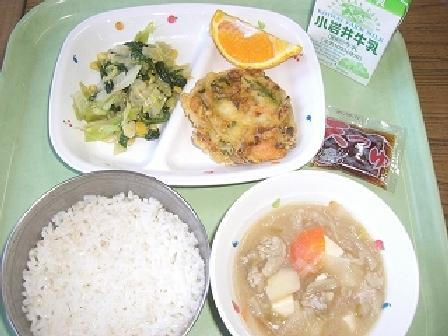Citrus: (209, 5, 302, 71)
Milk: (303, 0, 416, 65)
Rice: (2, 171, 213, 335)
Salad: (71, 33, 184, 142)
Soups: (210, 169, 423, 335)
casserole with meat and vegetables: (183, 74, 307, 167)
